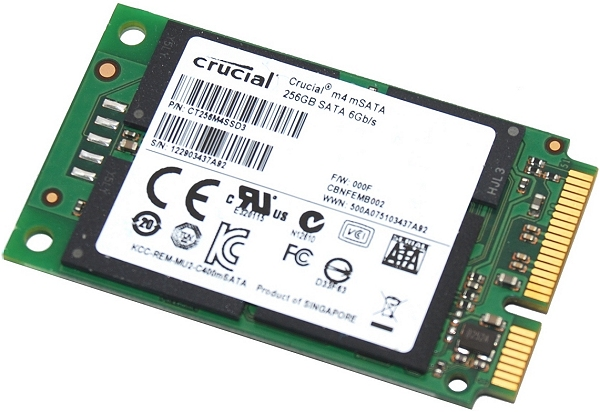mSATA SSD: (3, 3, 600, 409)
